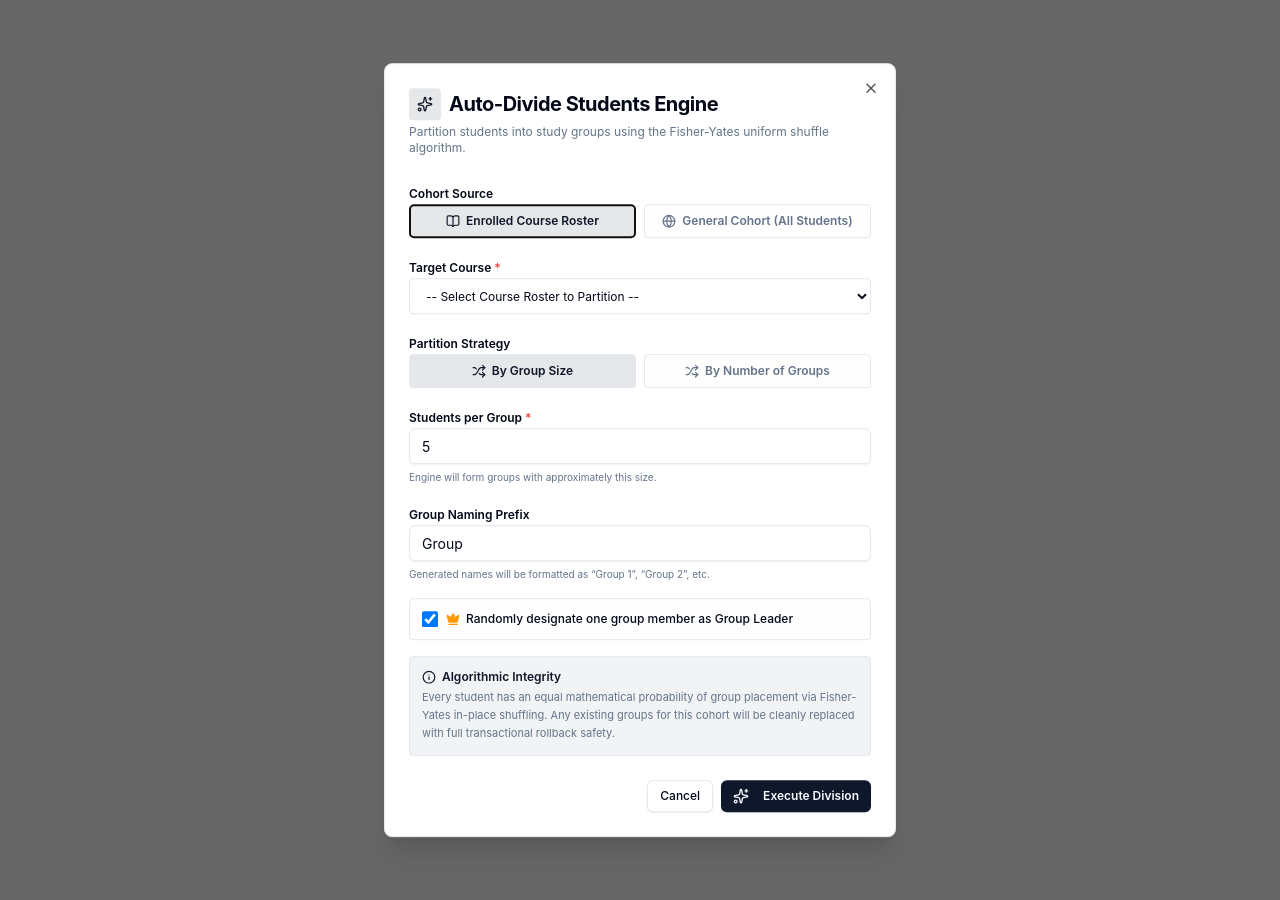
Test: Group Dialogs & Components › AutoDivideDialog › switches partition modes and validates course selection
Expected: the heading "Auto-Divide Students Engine" is shown, [449,90,718,118]
Submit without selecting course
Click the button with test id "execute-auto-divide-btn": (796, 796) [721,780,871,812]
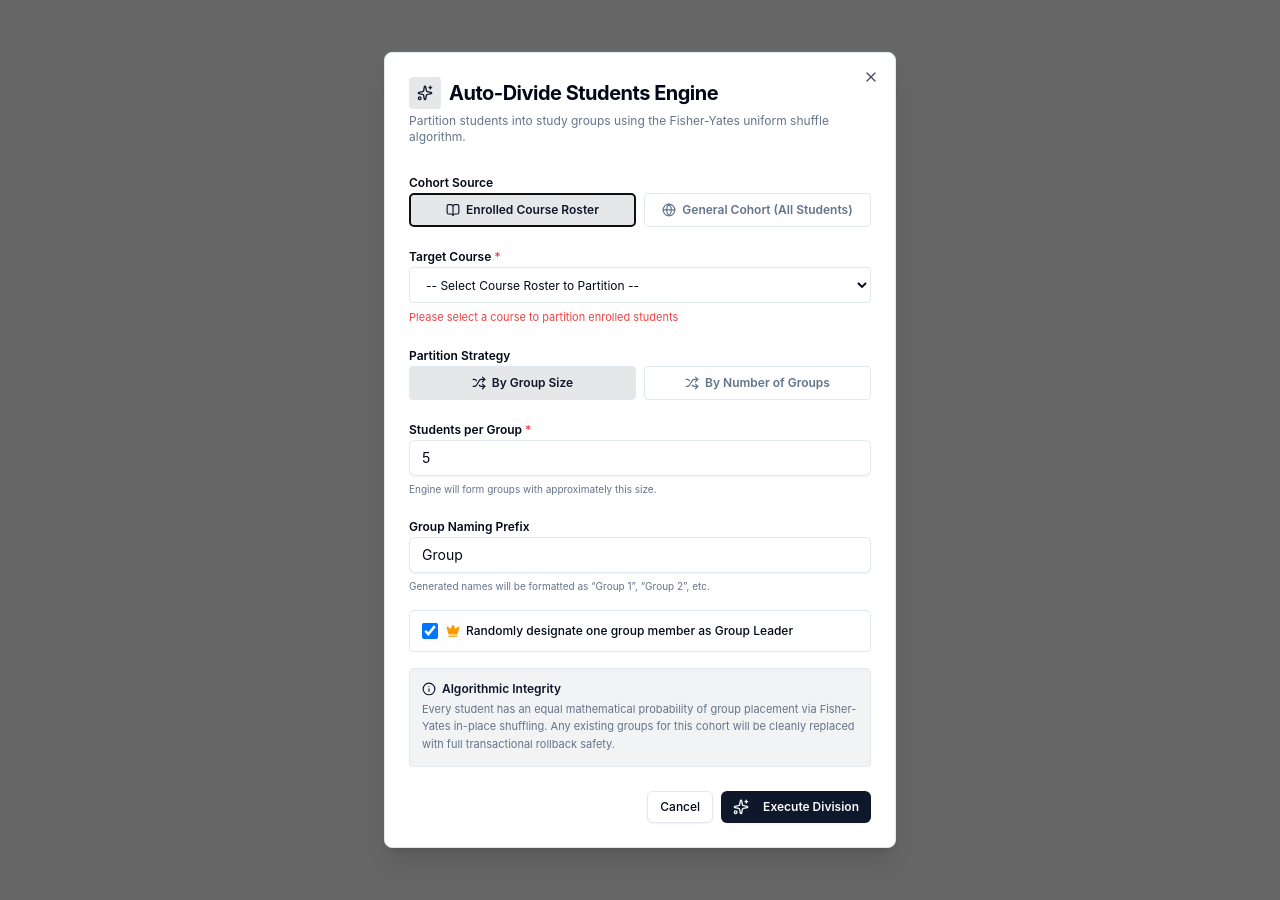
Expected: the text "Please select a course to partition enrolled students" is shown, [409,310,678,324]
Switch to General Cohort
Click the button with test id "scope-general-btn": (758, 210) [644,193,871,227]
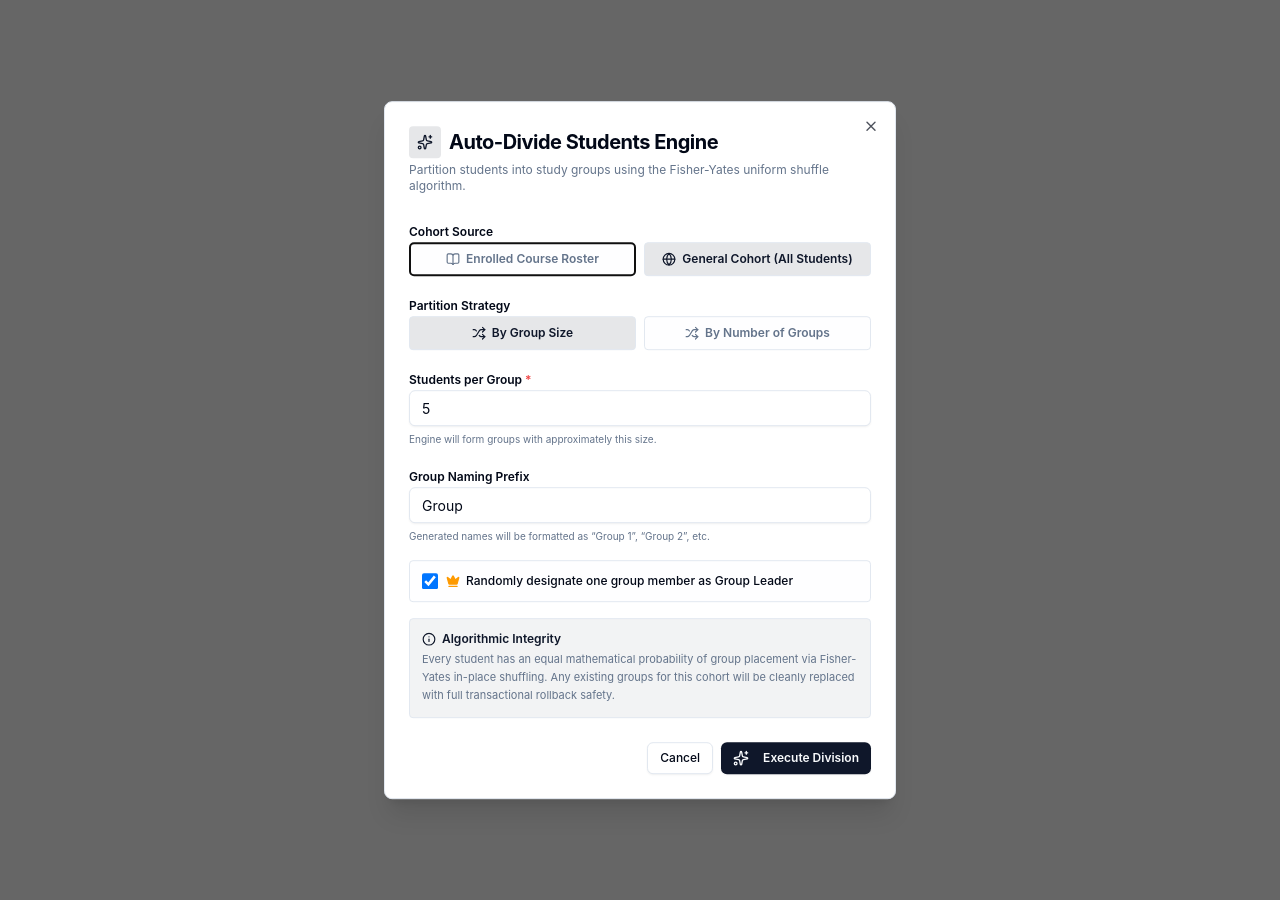
Expected: the text "Please select a course to partition enrolled students" is gone
